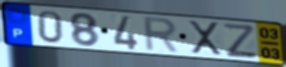0: (35, 10, 65, 44)
4: (111, 14, 140, 51)
8: (69, 11, 103, 48)
R: (143, 16, 182, 55)
X: (186, 19, 224, 57)
Z: (221, 22, 260, 59)
